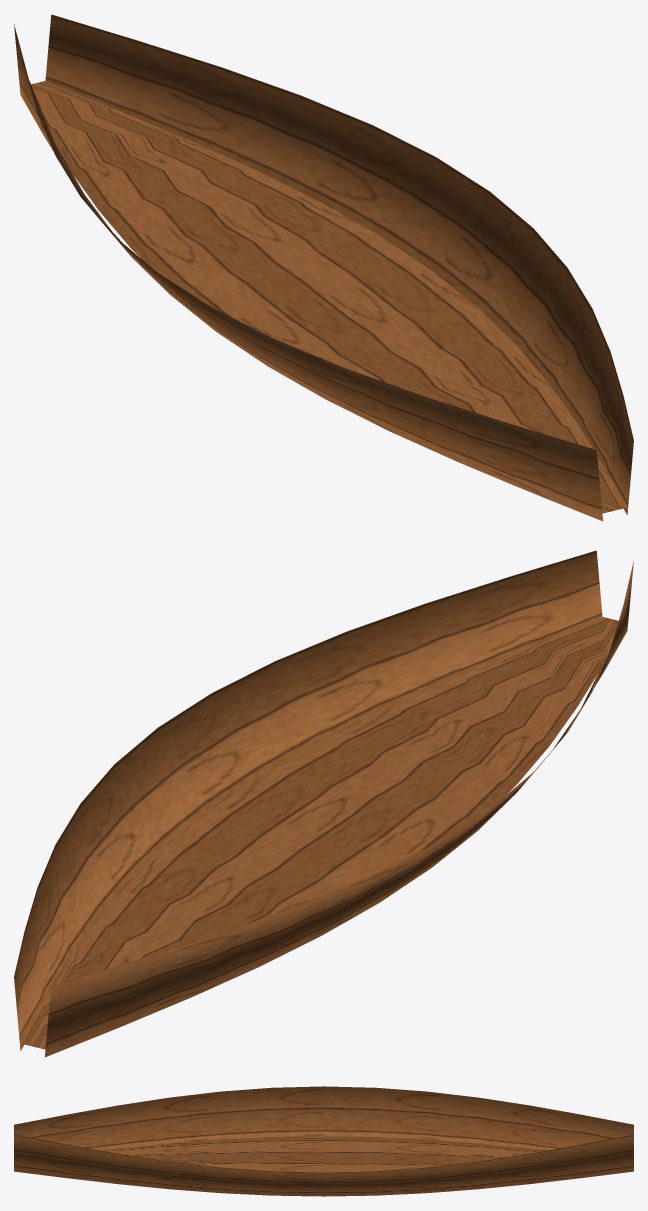
Rendered from champa_atrato.obj.
3 views of the same model, one above another, from view 1: azimuth 30°, elevation 25°; view 2: azimuth 150°, elevation 25°; view 3: azimuth 270°, elevation 25° (orthographic). The views are drawn at different scales.
Visible parts, largest first — view 1: champa_atrato; view 2: champa_atrato; view 3: champa_atrato.
Part boxes in pixels (x1=…): champa_atrato: x1=14, y1=14, x2=633, y2=521; champa_atrato: x1=14, y1=550, x2=633, y2=1057; champa_atrato: x1=14, y1=1086, x2=633, y2=1196.
Bounding box in the file's own units: 2.14 × 0.45 × 6.5.
1 material, 1 textured.
